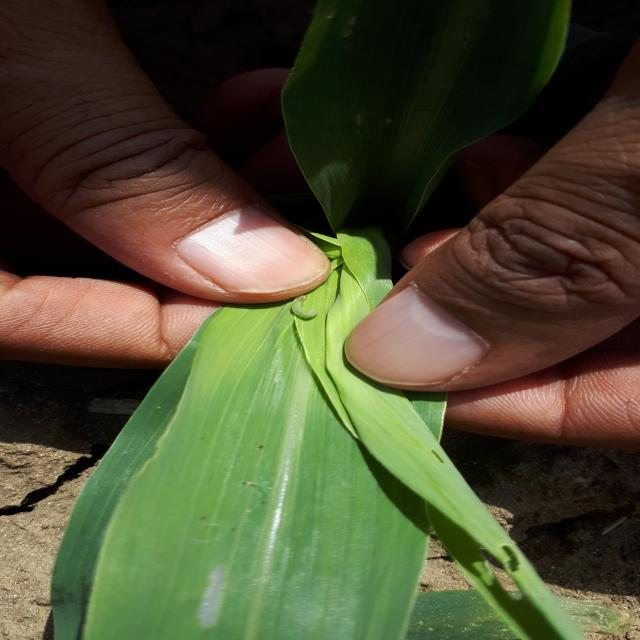armyworm: (275, 293, 327, 332)
